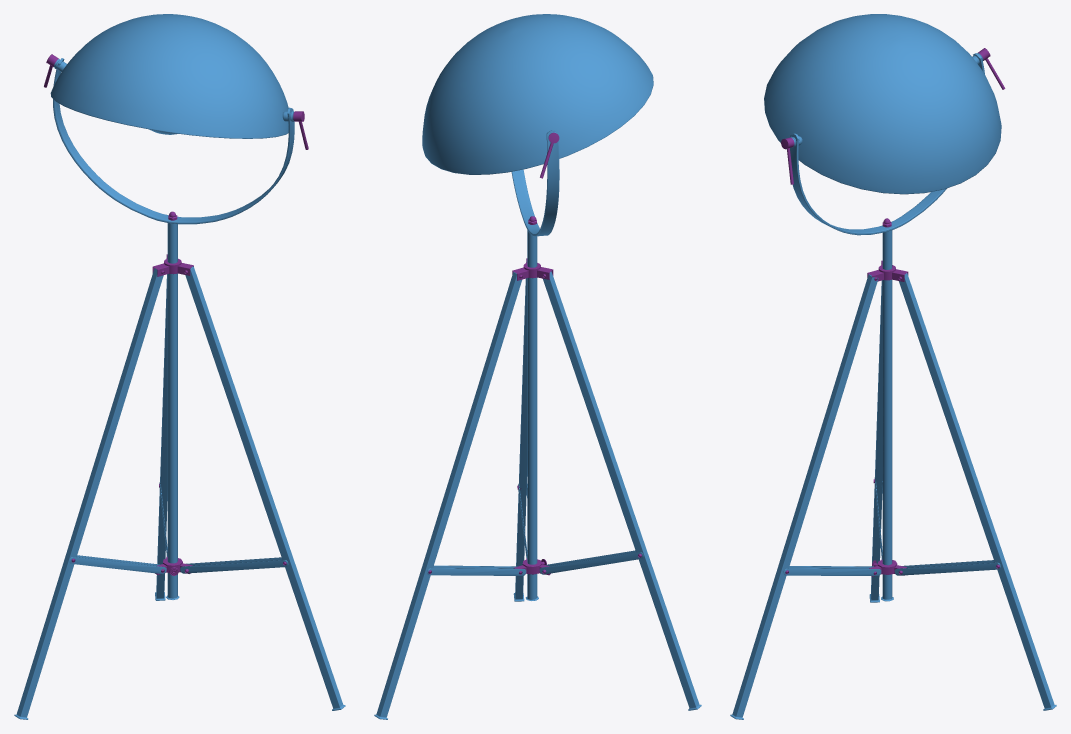
The model's file is lamp.dae.
3 renders of one model, left to right at view 1: azimuth 30°, elevation 25°; view 2: azimuth 150°, elevation 25°; view 3: azimuth 270°, elevation 25°, orthographic.
Visible parts, largest first — view 1: g Mario_Metal, g Metal_Chrome; view 2: g Mario_Metal, g Metal_Chrome; view 3: g Mario_Metal, g Metal_Chrome.
Boxes of the visible parts, x1,y1,x2,y2 form: g Mario_Metal: (14, 14, 345, 719); g Metal_Chrome: (44, 54, 308, 575); g Mario_Metal: (374, 14, 701, 719); g Metal_Chrome: (428, 132, 641, 576); g Mario_Metal: (730, 14, 1056, 719); g Metal_Chrome: (781, 48, 1005, 576).
Size of what is drawn, in the model's own units: 0.8338 by 2 by 0.9159.
